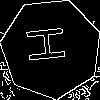H: (26, 23, 75, 64)
